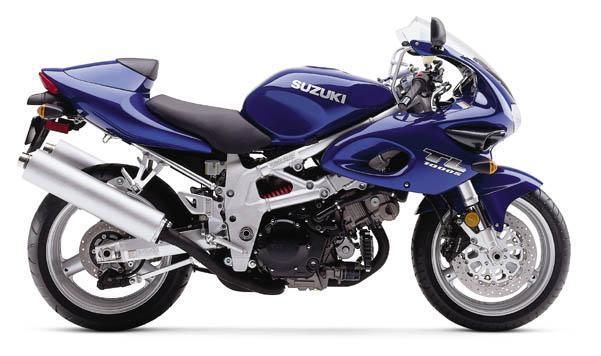Motorcycle: (14, 4, 588, 343)
